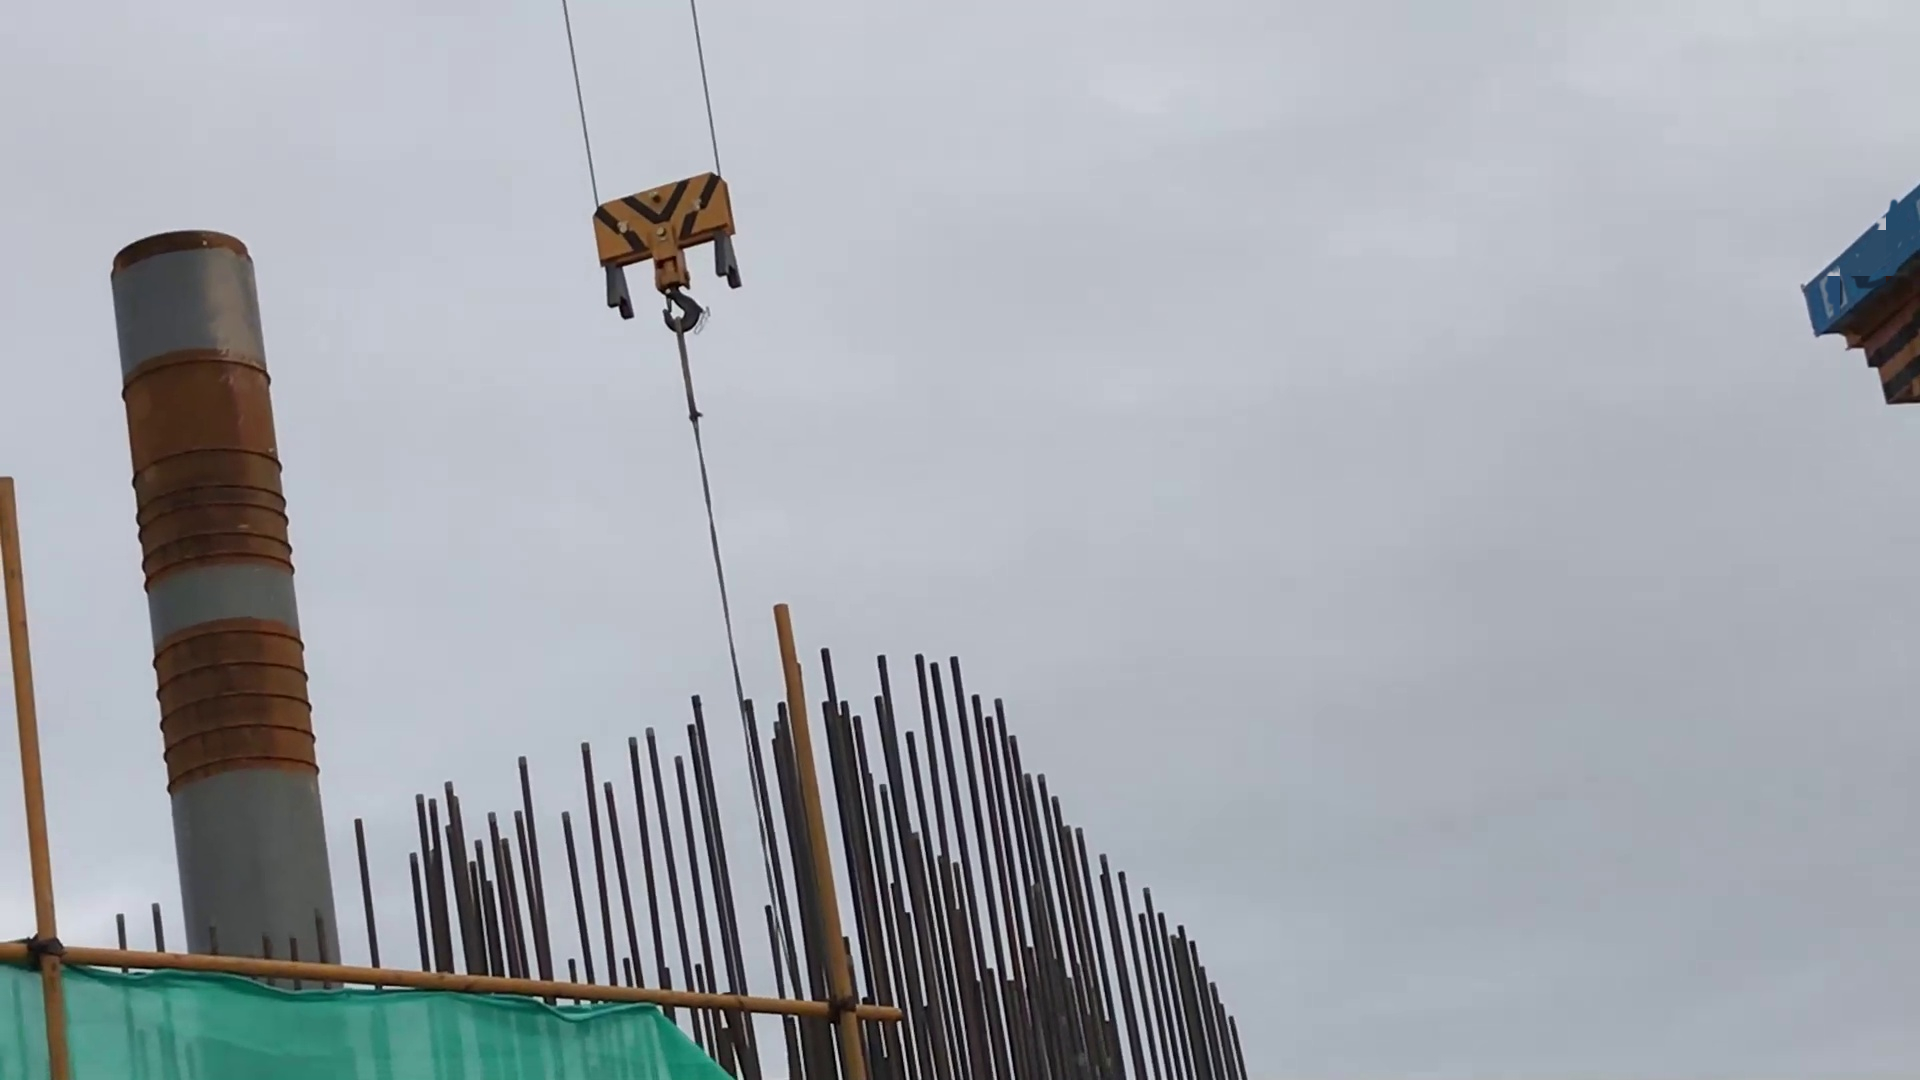hook: (571, 169, 753, 338)
